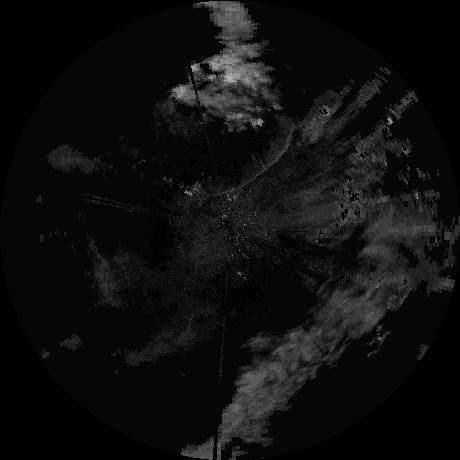frontgust: (197, 127, 292, 197)
